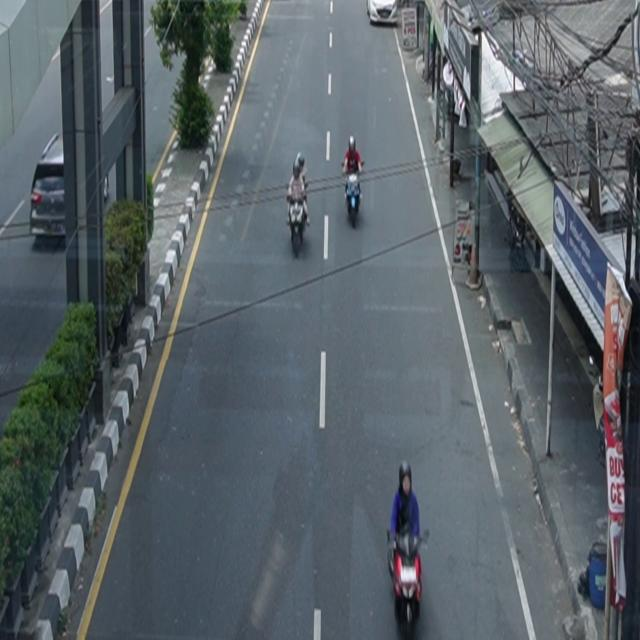car: (30, 132, 110, 245), (367, 1, 398, 26)
